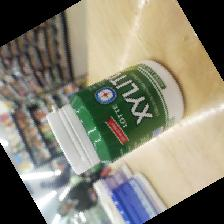Xylitol_green: (45, 59, 185, 177)
